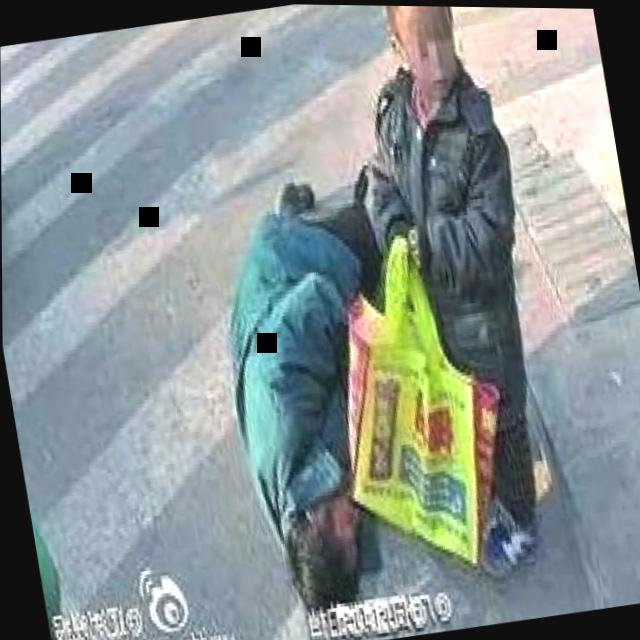Fall-Detected: (182, 97, 450, 623)
